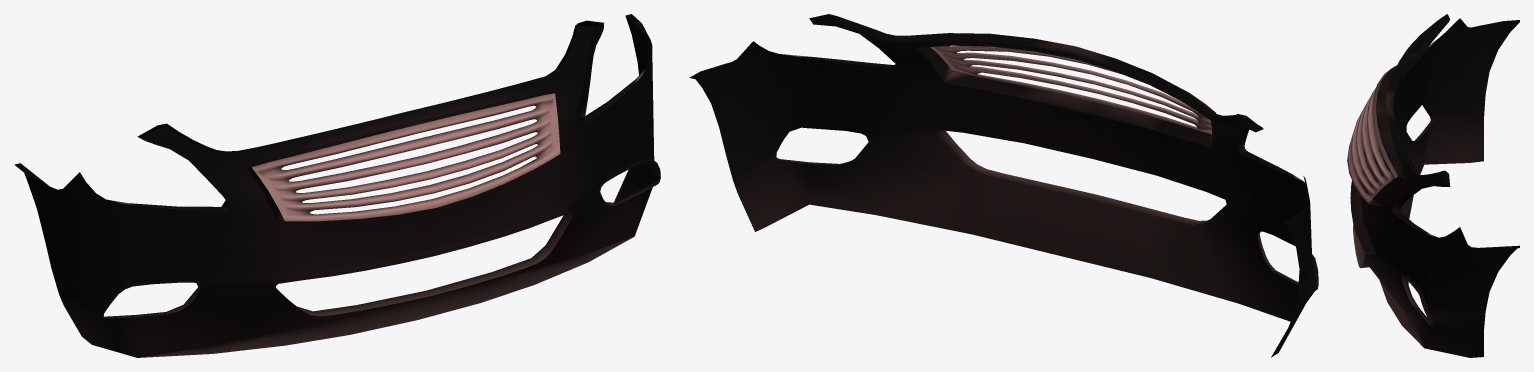
The model's file is G37_FB_02_Trim.fbx.
The picture shows the model from 3 angles, left to right: view 1: azimuth 30°, elevation 25°; view 2: azimuth 150°, elevation 25°; view 3: azimuth 270°, elevation 25°; orthographic projection. The views are drawn at different scales.
Visible parts, largest first — view 1: G37_FB_02_Trim; view 2: G37_FB_02_Trim; view 3: G37_FB_02_Trim.
Boxes of the visible parts, box(x1,y1,x2,y2) form: G37_FB_02_Trim: box(14, 14, 660, 357); G37_FB_02_Trim: box(689, 14, 1318, 357); G37_FB_02_Trim: box(1347, 14, 1519, 357).
Size of the model in its own units: 180 by 61.27 by 57.73.
